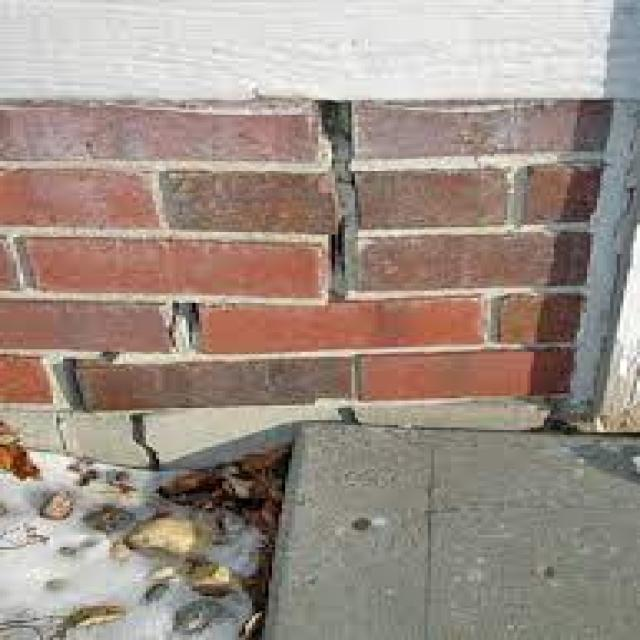Crack: (46, 95, 355, 474)
